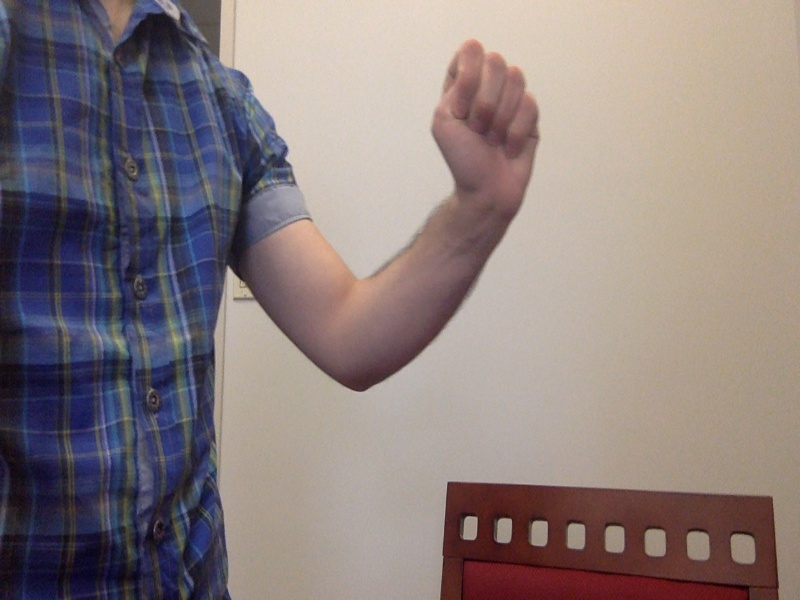0-hand: (431, 39, 549, 197)
